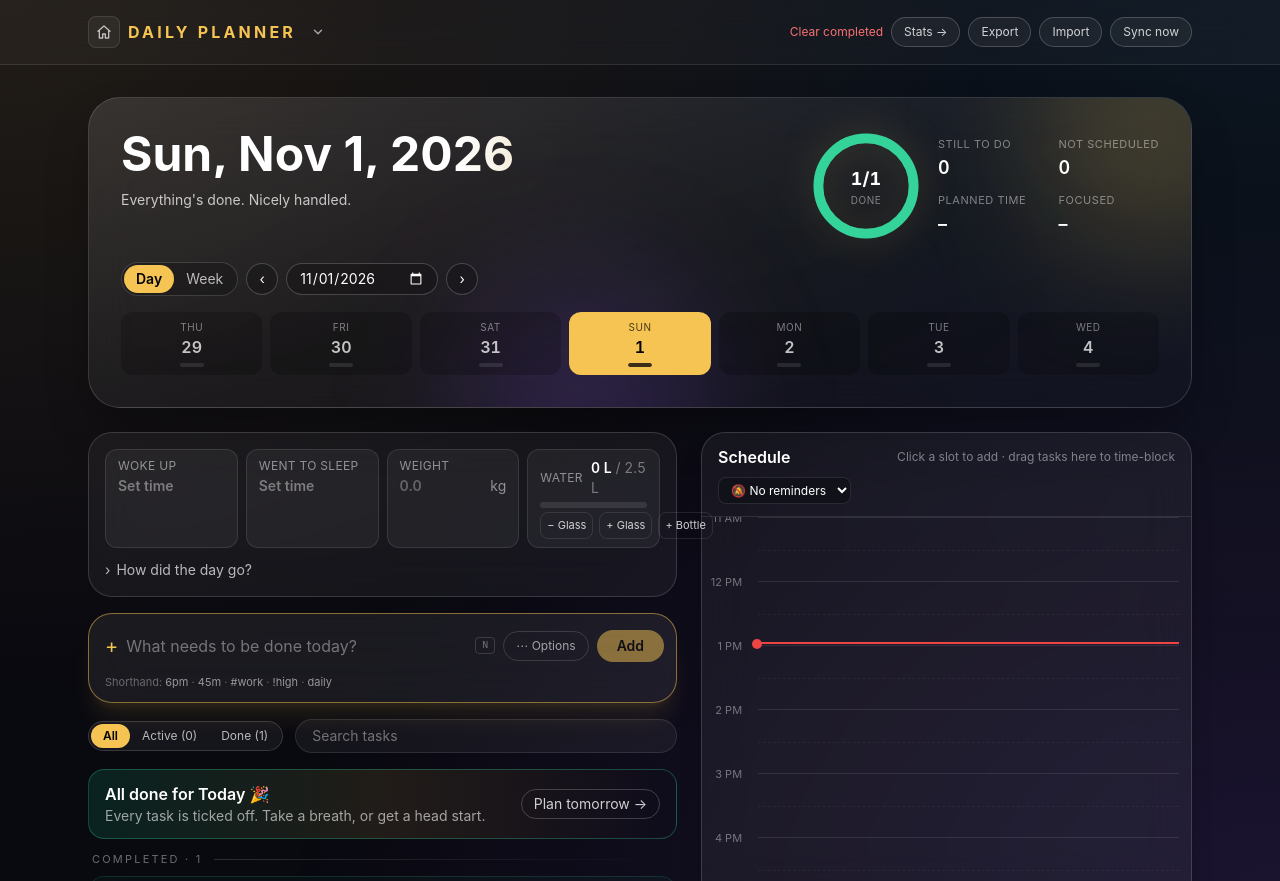
Test: friendlier planner › celebrates a finished day and offers to plan the next one
(page scrolled)
Expected: the text "All done for Today 🎉" is shown, [105,784,269,804]
Expected: the text "Everything's done. Nicely handled." is shown, [121,191,351,208]
Click the button "Plan tomorrow →" at (590, 804), box [521,789,660,819]
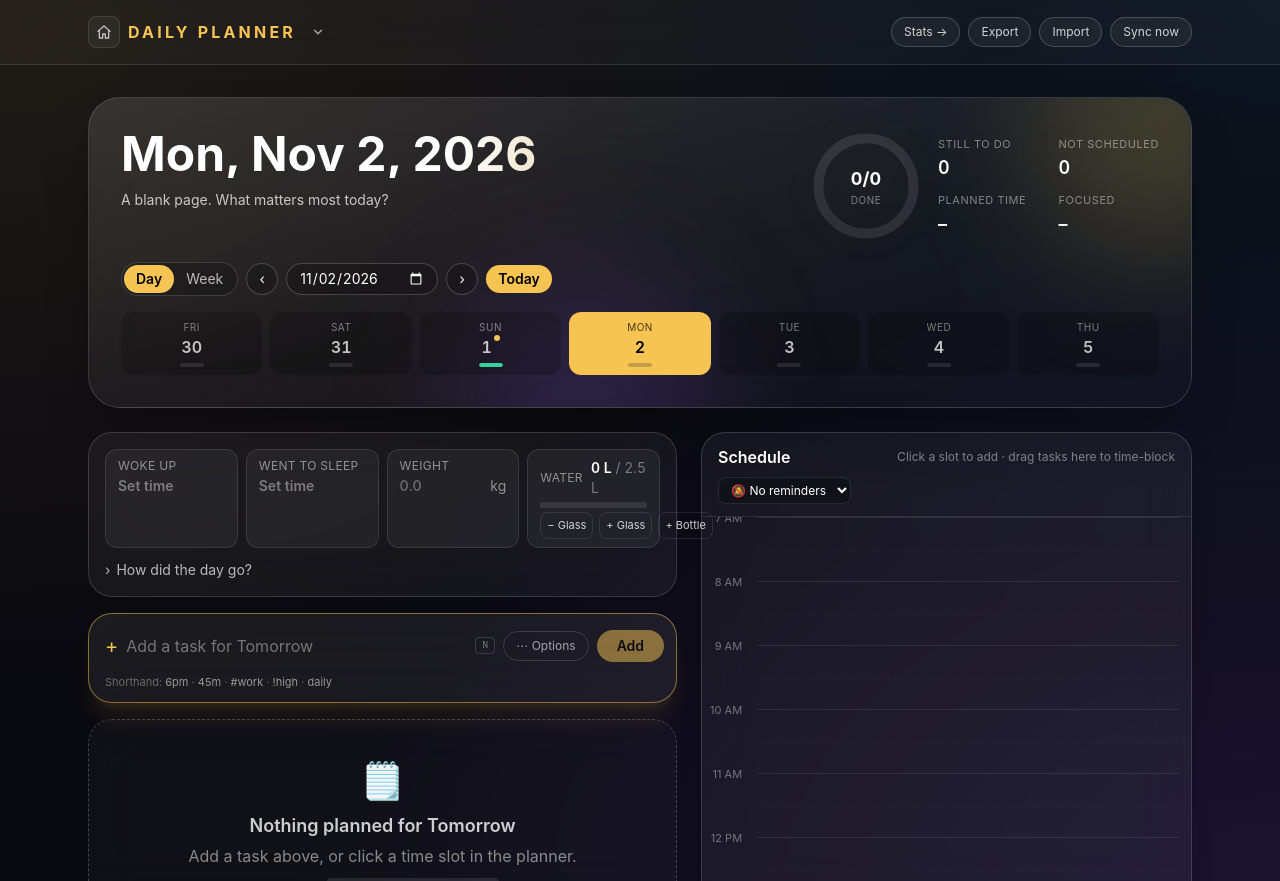
Now the heading "Nothing planned for Tomorrow" is shown, box [250,815,516,836]
Now the text "A blank page. What matters most today?" is shown, box [121,191,389,208]
